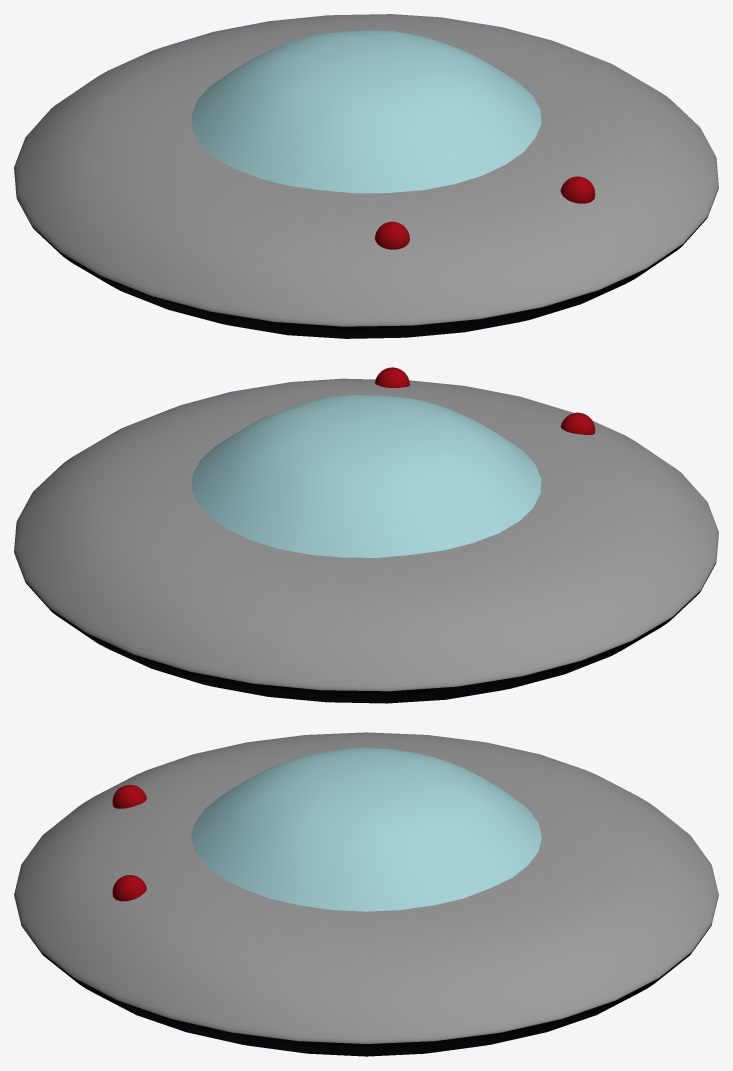
Rendered from flying_saucer.glb.
The picture shows the model from 3 angles, top to bottom: view 1: azimuth 30°, elevation 25°; view 2: azimuth 150°, elevation 25°; view 3: azimuth 270°, elevation 25°; orthographic projection.
Parts seen in each view (by area): view 1: Disk, Spheres; view 2: Disk, Spheres; view 3: Disk, Spheres.
Part boxes in pixels (box(x1,y1,x2,y2)): Disk: box(14, 14, 718, 338); Spheres: box(375, 176, 595, 249); Disk: box(14, 378, 718, 703); Spheres: box(375, 367, 595, 434); Disk: box(14, 732, 718, 1056); Spheres: box(112, 784, 146, 901).
Bounding box in the file's own units: 1.4 × 0.3912 × 1.4.
Materials: 1 (1 with a texture image).
